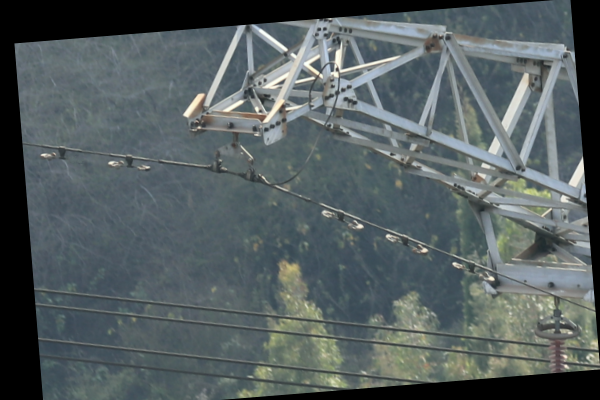damper: (382, 230, 430, 256), (451, 257, 496, 284), (318, 206, 365, 231), (105, 152, 151, 172)
damper_defect: (37, 144, 69, 162)
